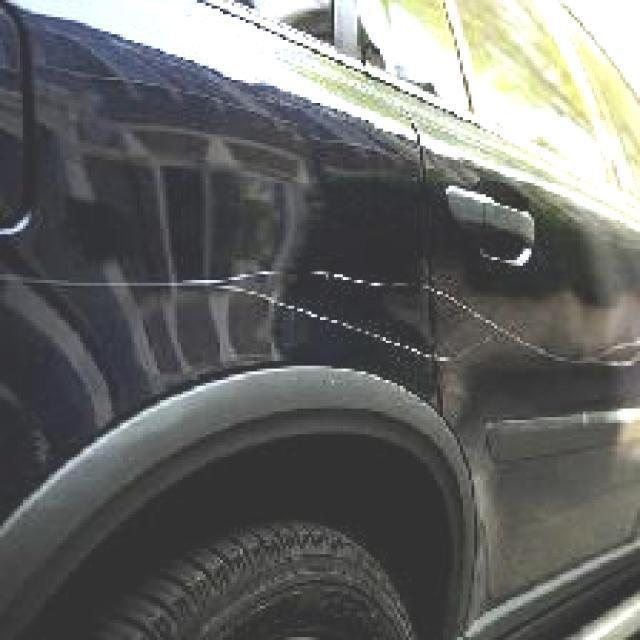minor: (34, 245, 558, 385), (580, 337, 638, 370)
